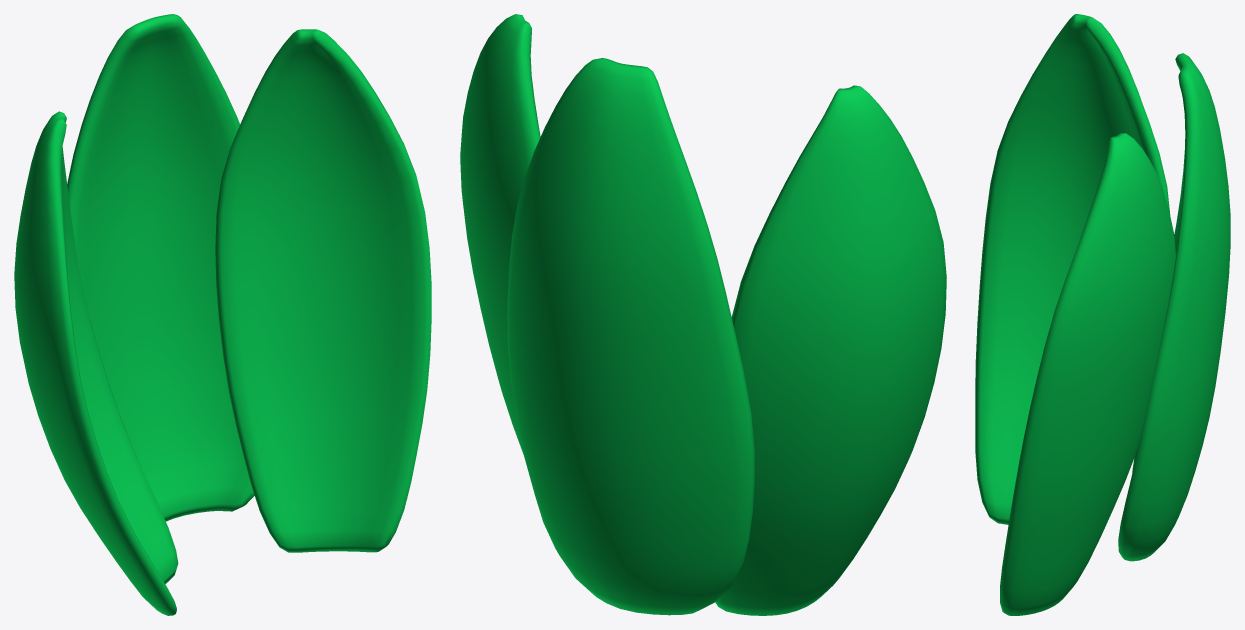
File: Corn_Leaves.fbx
3 views of the same model, side by side, from view 1: azimuth 30°, elevation 25°; view 2: azimuth 150°, elevation 25°; view 3: azimuth 270°, elevation 25° (orthographic). The views are drawn at different scales.
Parts seen in each view (by area): view 1: Corn_Leaf_01, Corn_Leaf_02, Corn_Leaf_03; view 2: Corn_Leaf_02, Corn_Leaf_03, Corn_Leaf_01; view 3: Corn_Leaf_01, Corn_Leaf_03, Corn_Leaf_02.
Boxes of the visible parts, x1,y1,x2,y2 form: Corn_Leaf_01: (215,29,431,552); Corn_Leaf_02: (67,14,254,521); Corn_Leaf_03: (14,111,178,615); Corn_Leaf_02: (507,58,754,615); Corn_Leaf_03: (715,85,946,615); Corn_Leaf_01: (460,14,540,454); Corn_Leaf_01: (1000,133,1175,615); Corn_Leaf_03: (975,14,1170,524); Corn_Leaf_02: (1118,53,1230,561).
Size of the model in its own units: 1393 by 1727 by 800.
